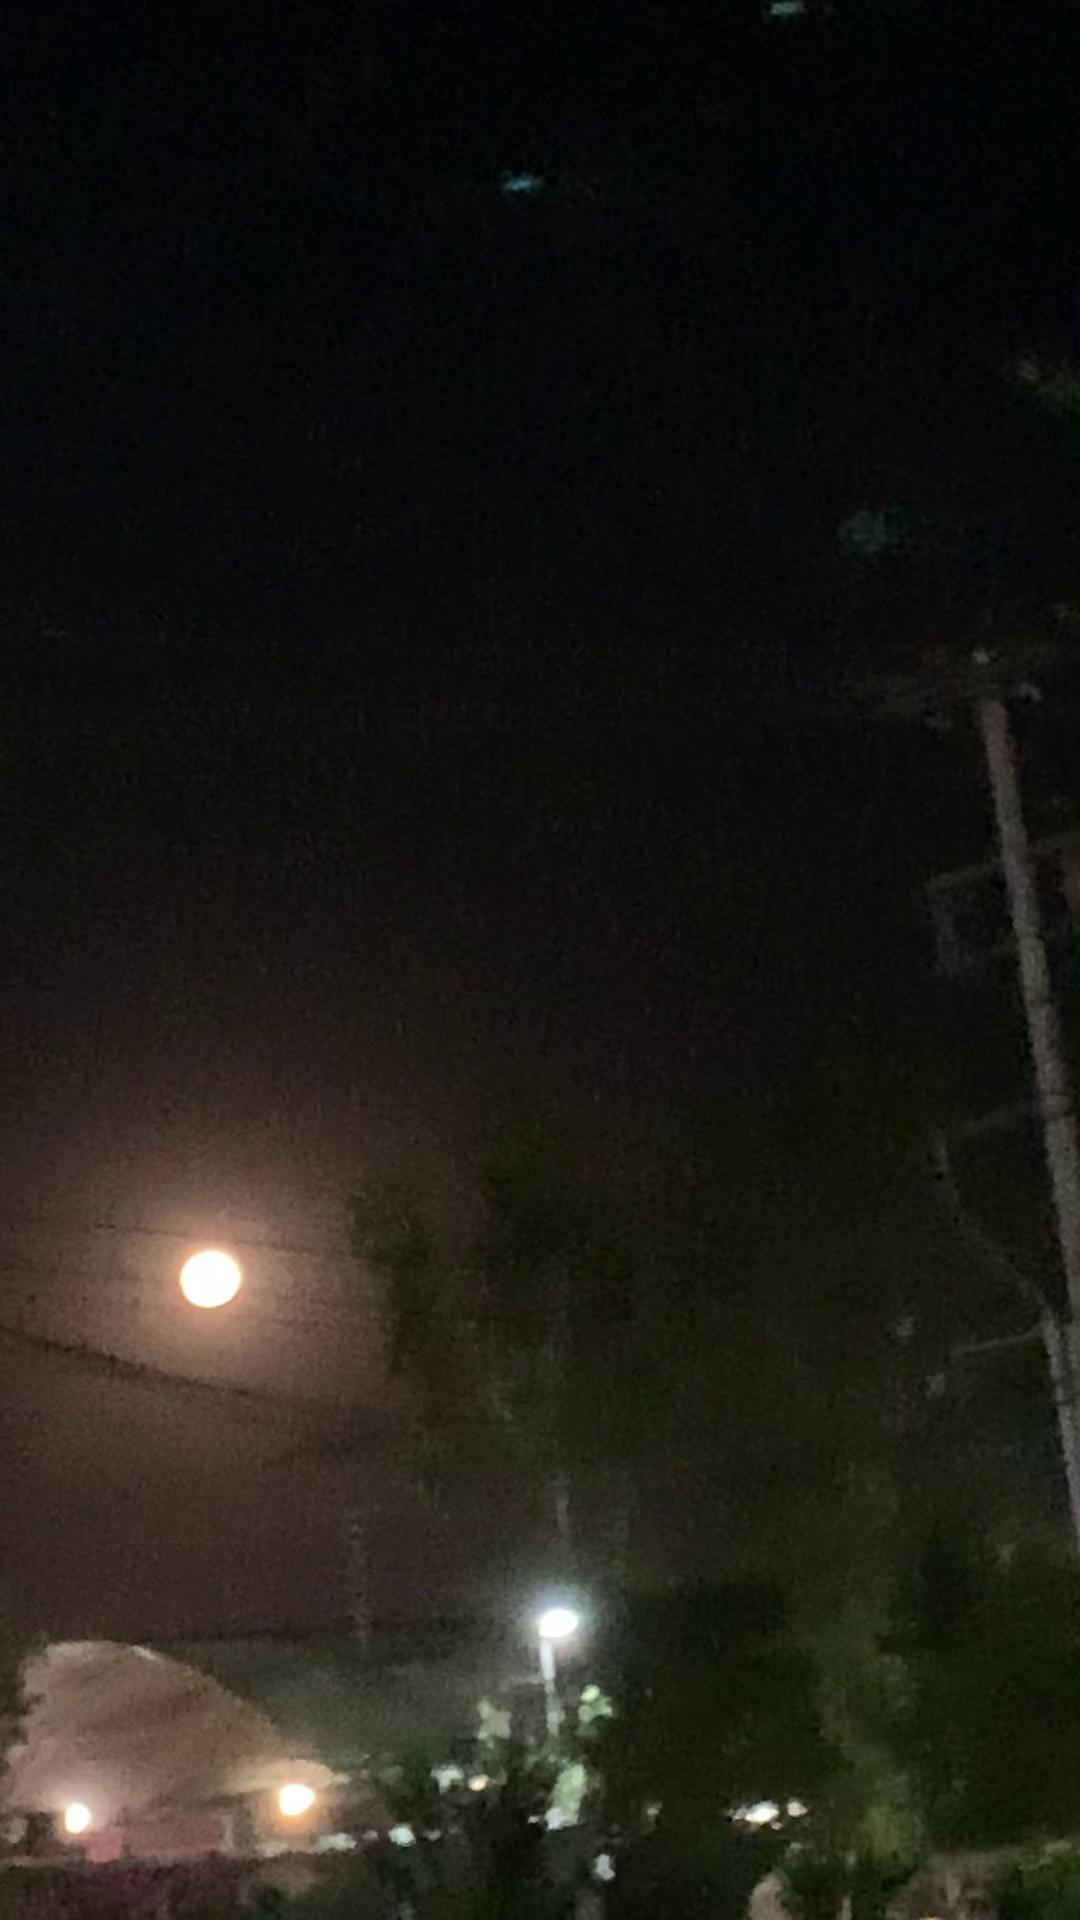moon: (173, 1229, 270, 1311)
